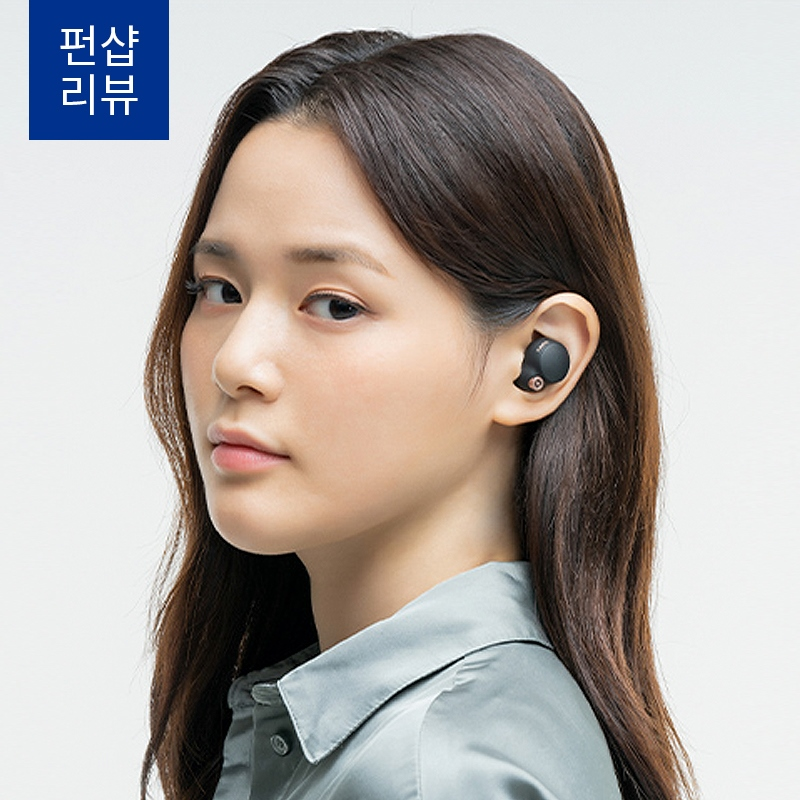earphone: (488, 293, 601, 426)
